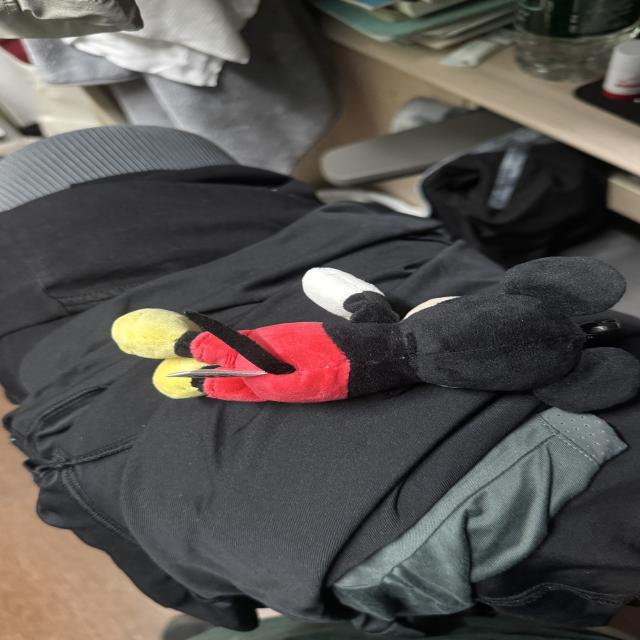mickey: (113, 258, 639, 411)
